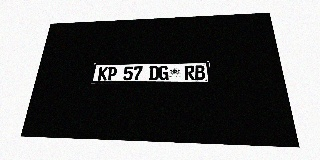plate: (91, 61, 211, 83)
